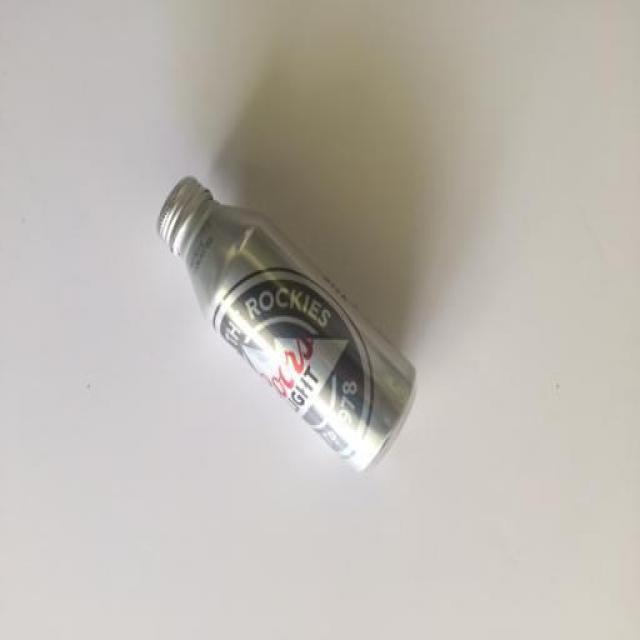metel: (149, 148, 434, 506)
